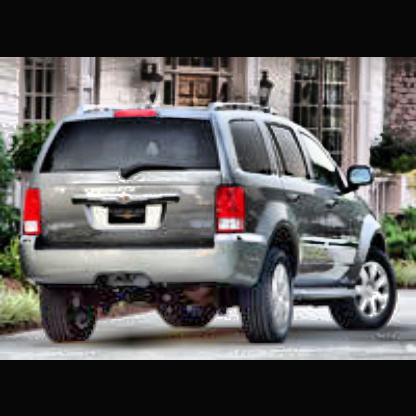Chrysler Aspen SUV 2009: (24, 99, 402, 348)
